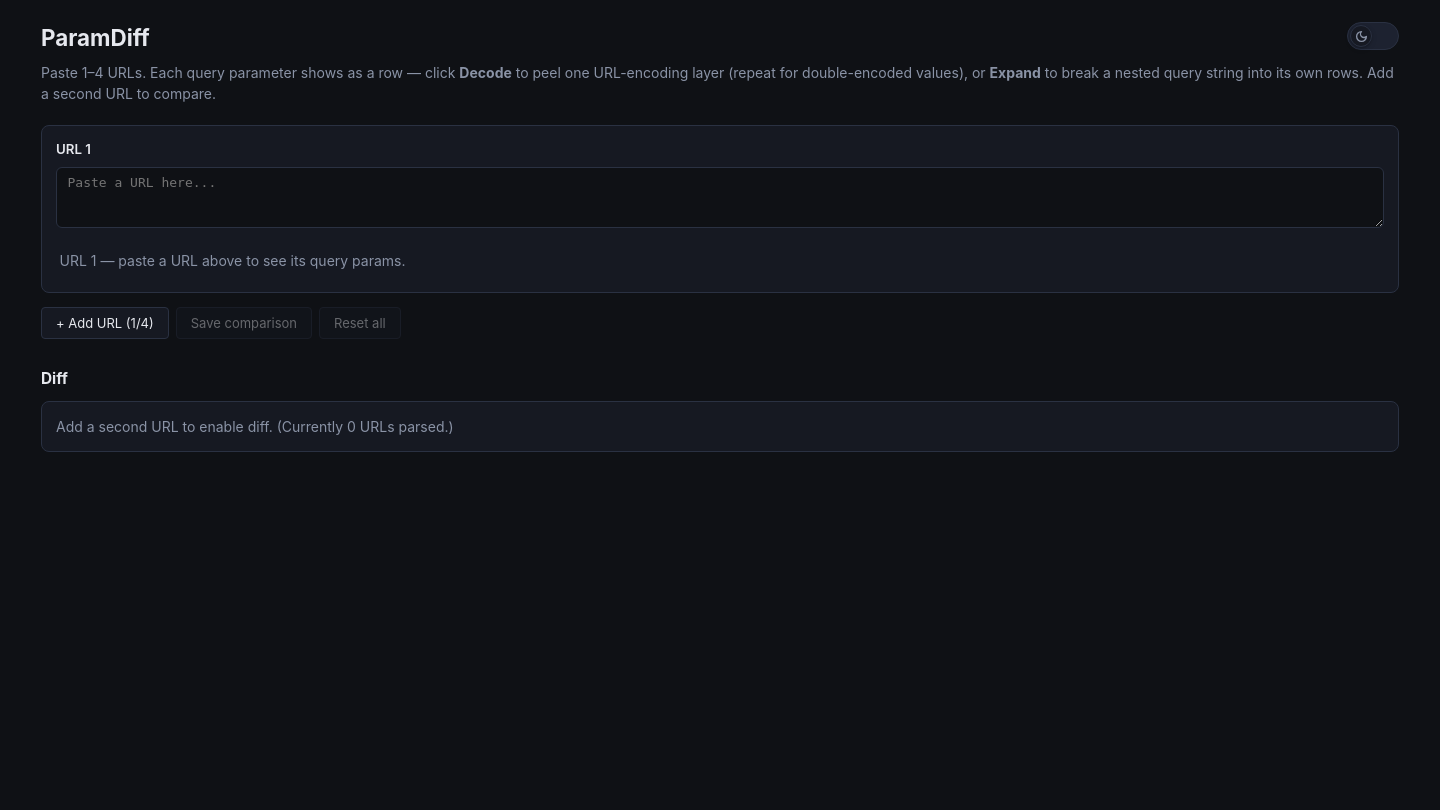
Test: App — URL slot management › hides the Remove button when only one slot remains
Click the button "+ Add URL (1/4)".
click(105, 323)  # box [41,307,169,339]
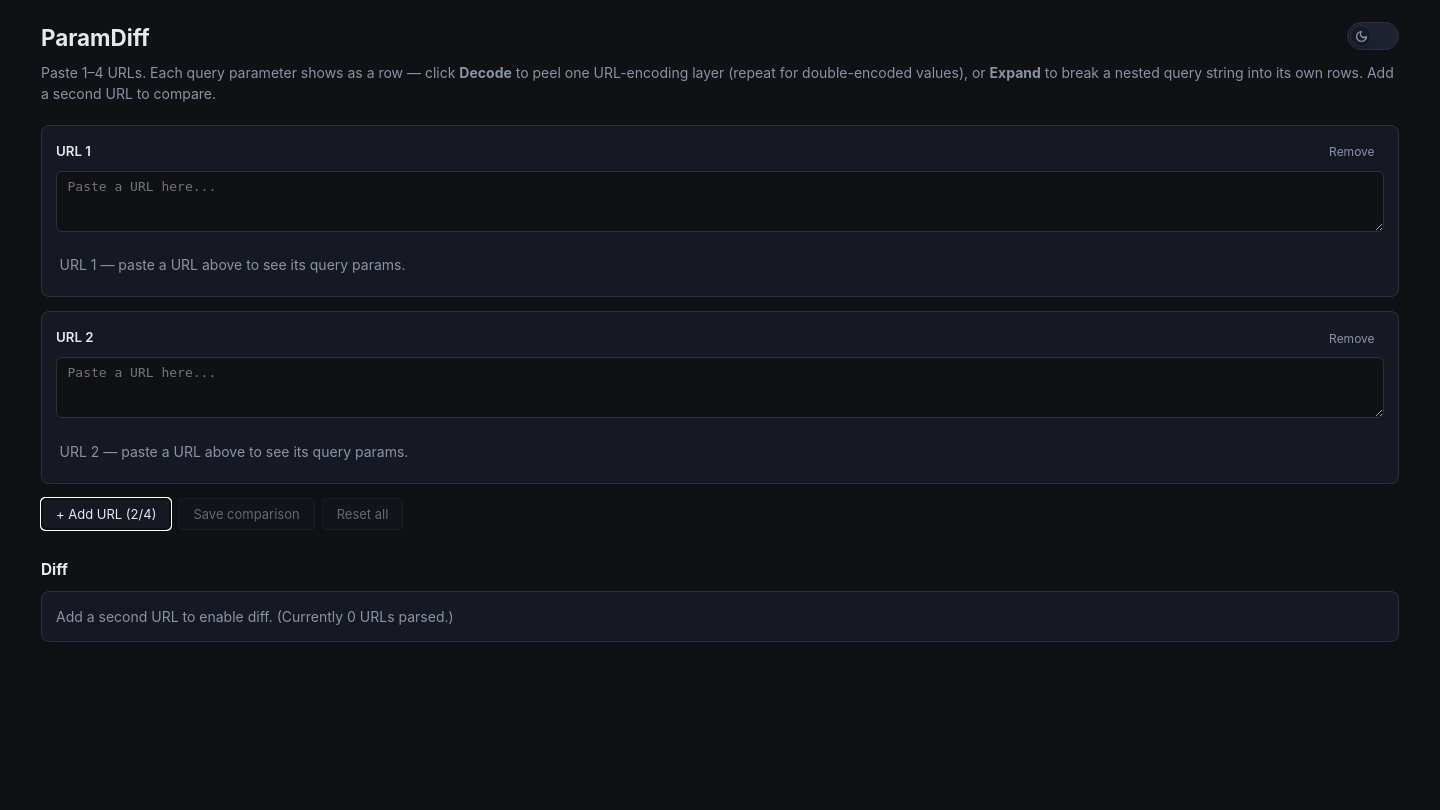
Expected: the number of buttons "Remove" is 2
Click the 1st button "Remove".
click(1352, 152)  # box [1320,140,1384,164]
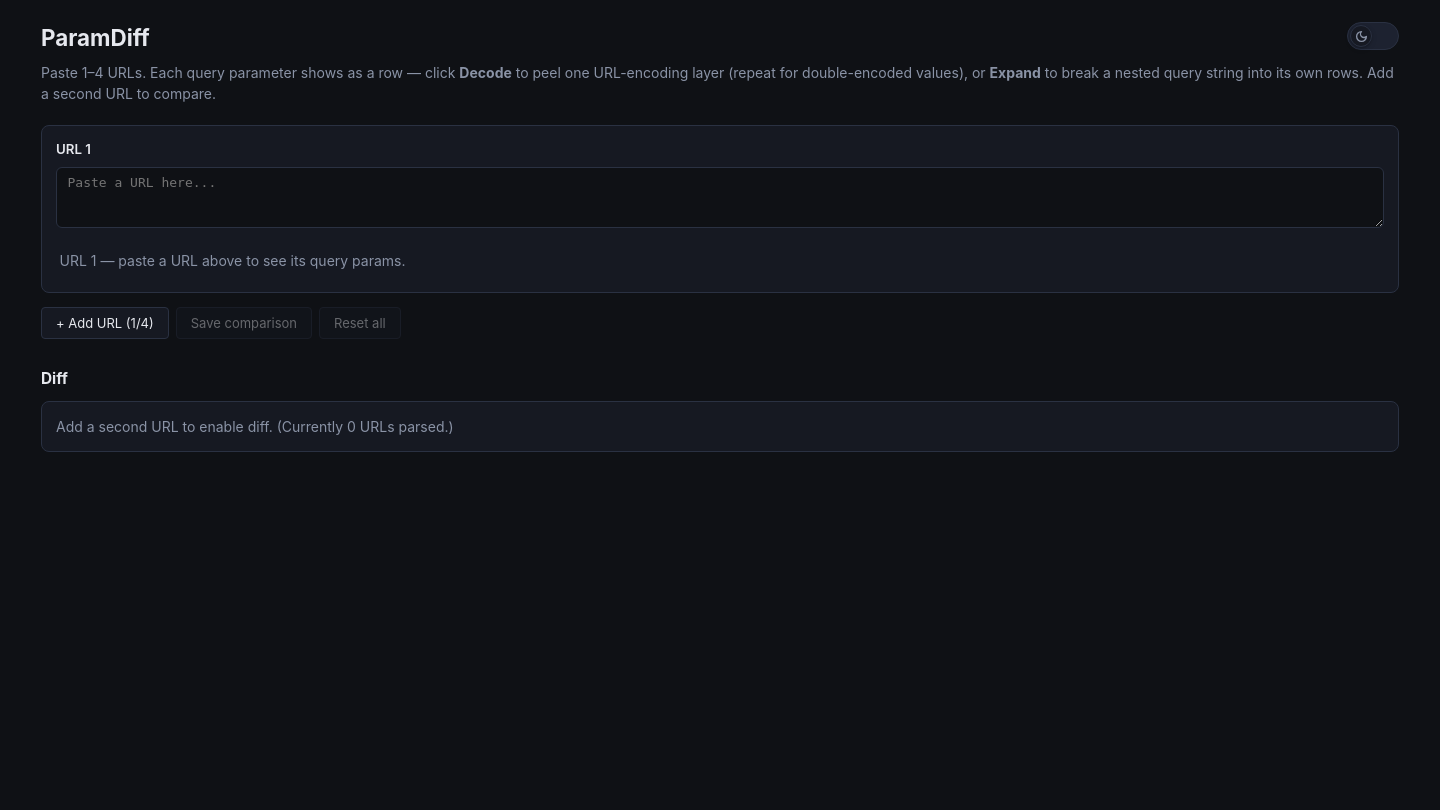
Expected: the button "Remove" is gone
